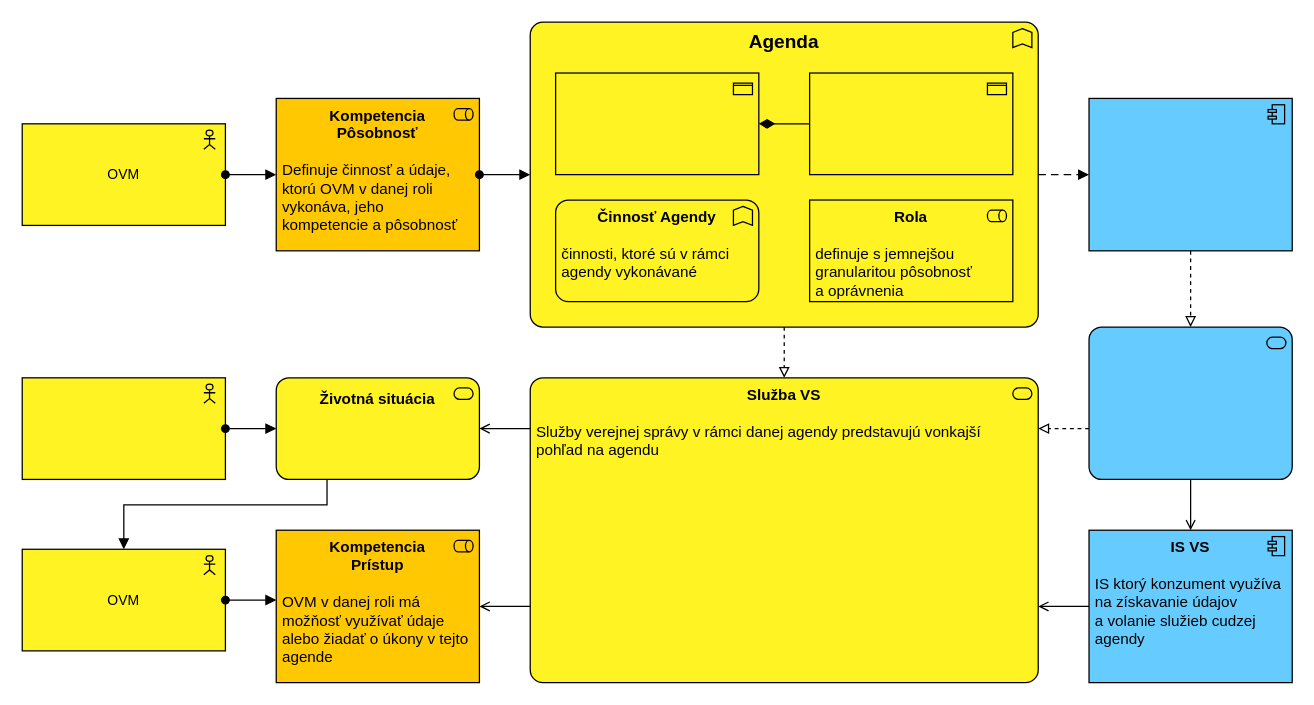
Some shapes in this 1314 by 705 pixel diagram are drawn without their labels. Each missing label, with the centre of its shape:
"Aplikačná služba realizuje prístup k údajom a službám agendy" belongs at (1190,402).
"IS VS IS v ktorom OVM spravuje údaje, vykonáva svoju pôsobnosť v danej agende" belongs at (1190,174).
"Objekt evidencie Aké objekty sa evidujú v agende, napríklad auto" belongs at (656,123).
"Občan / FO / PO" belongs at (123,428).
"Údaj Aké údaje sa o objekte evidujú v agende, napríklad typ, rok výroby, ..." belongs at (910,123).
